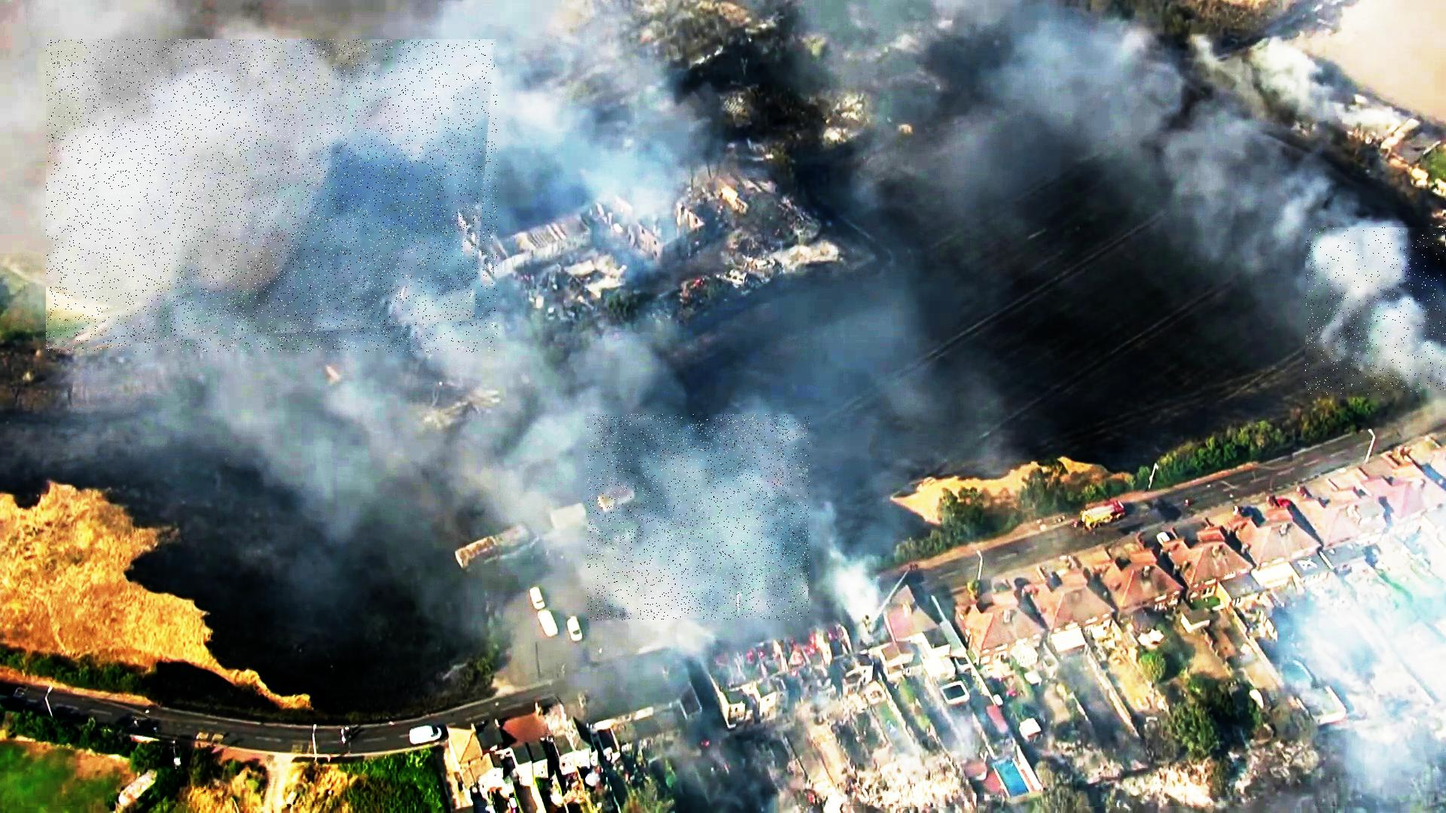smoke: (46, 40, 497, 353), (588, 414, 810, 621), (1305, 228, 1446, 395)
